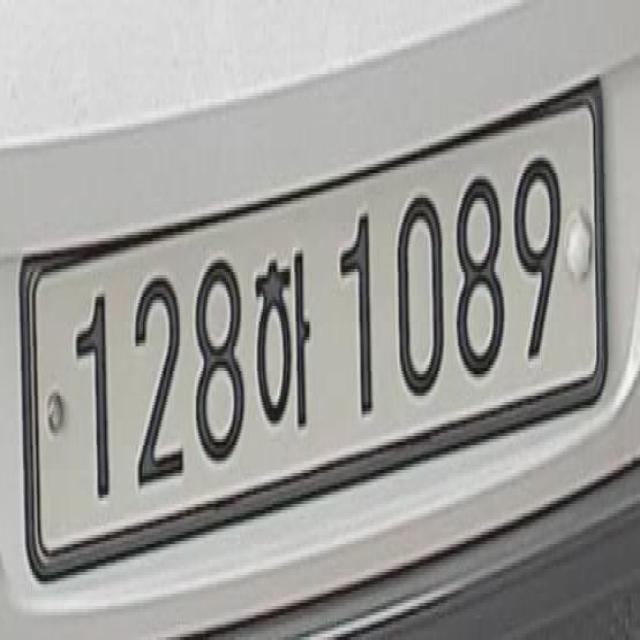illegal_plate: (24, 101, 610, 614)
